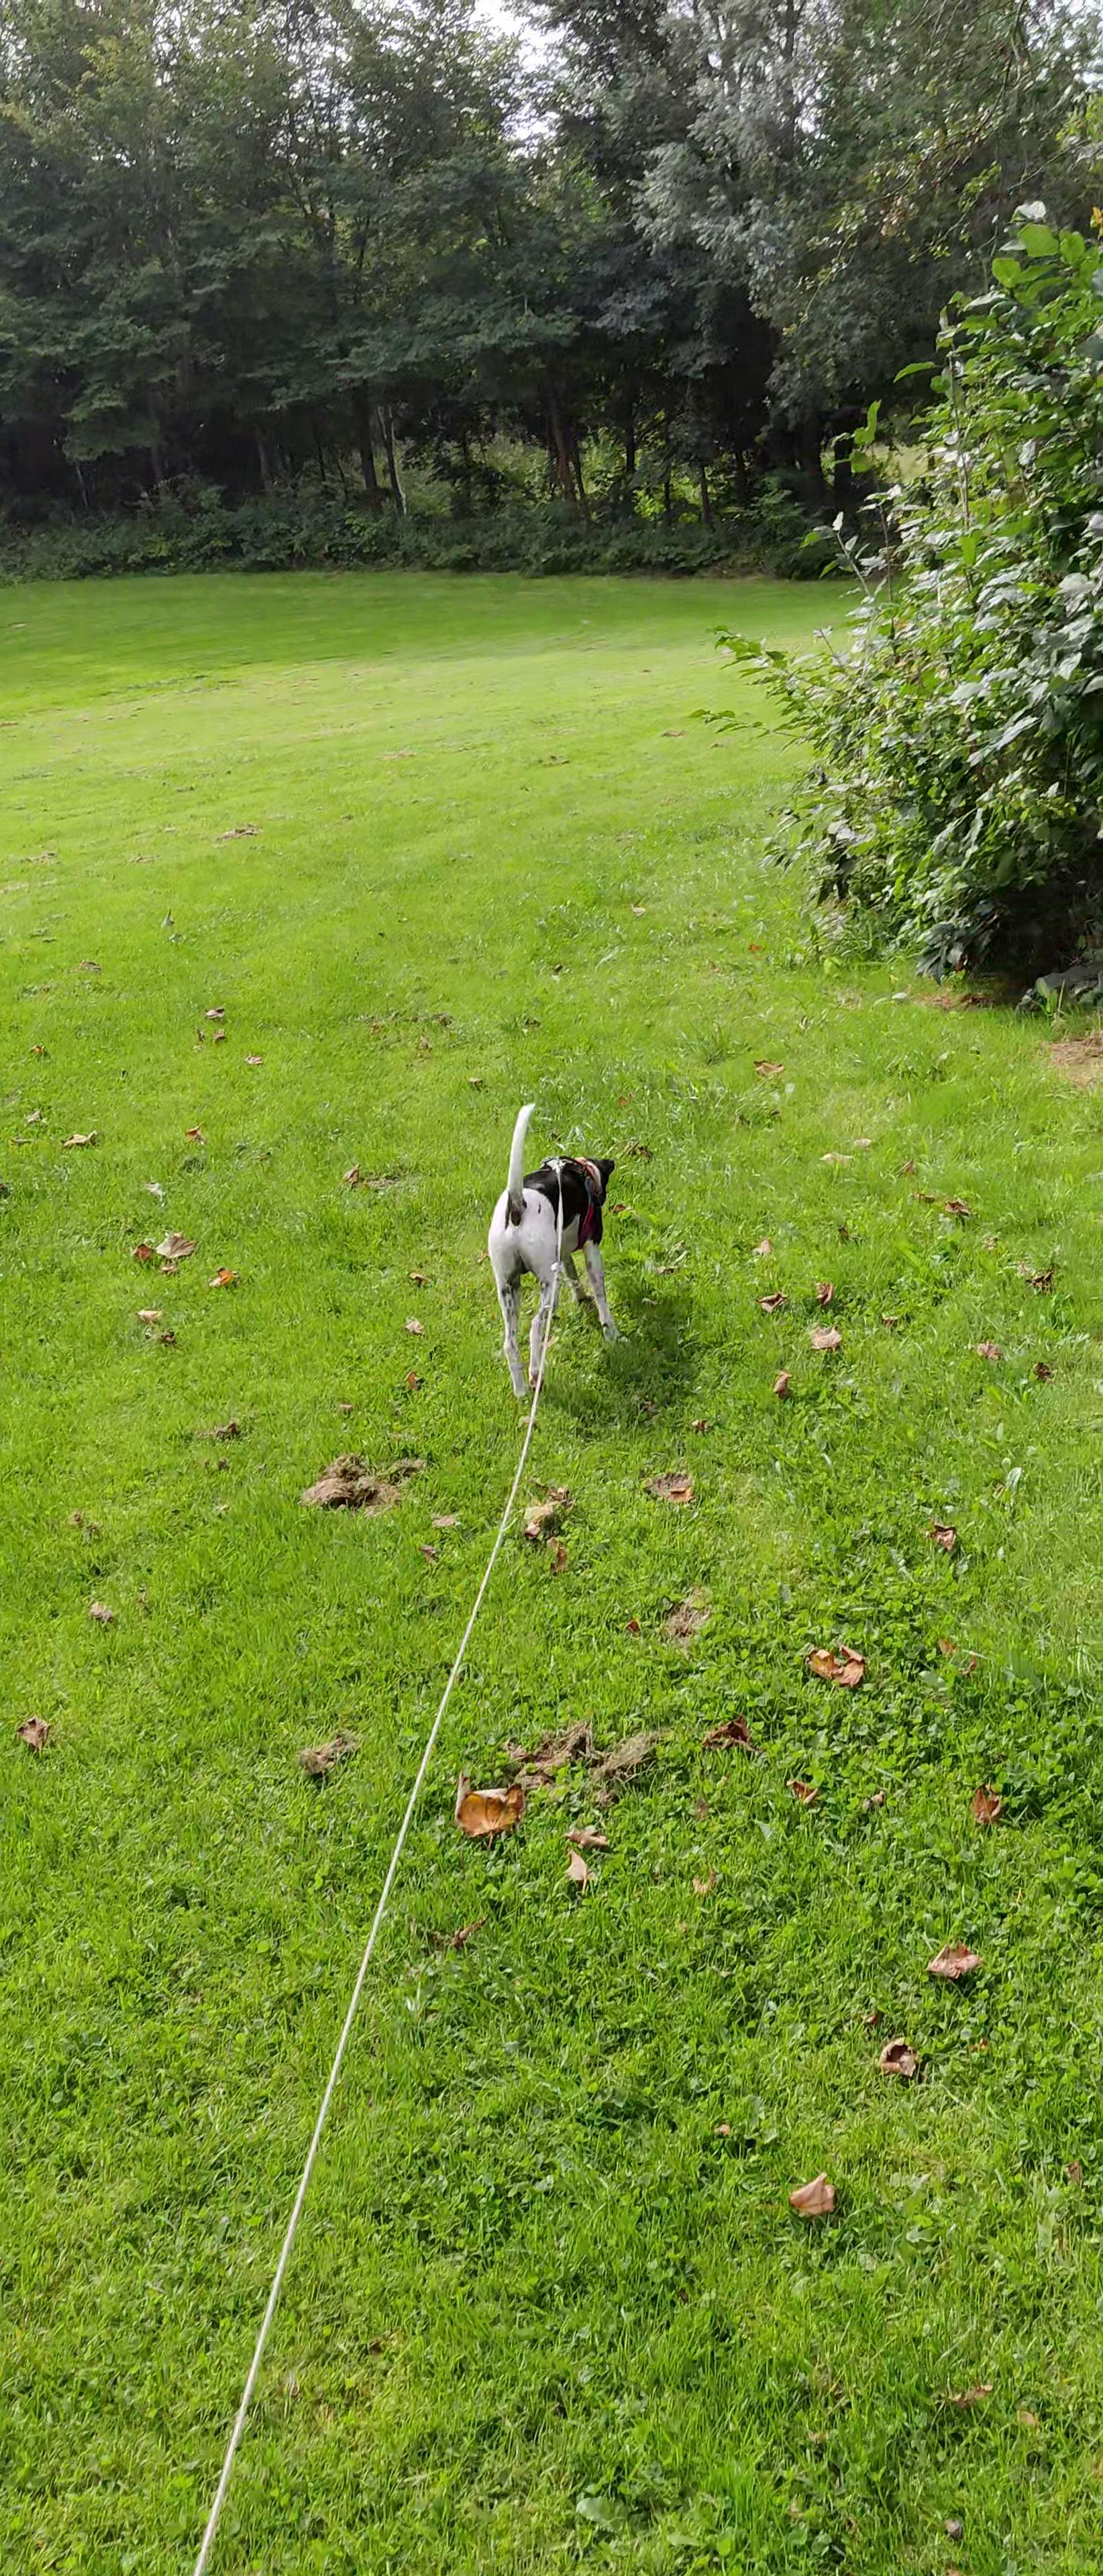Dog: (464, 1094, 648, 1414)
